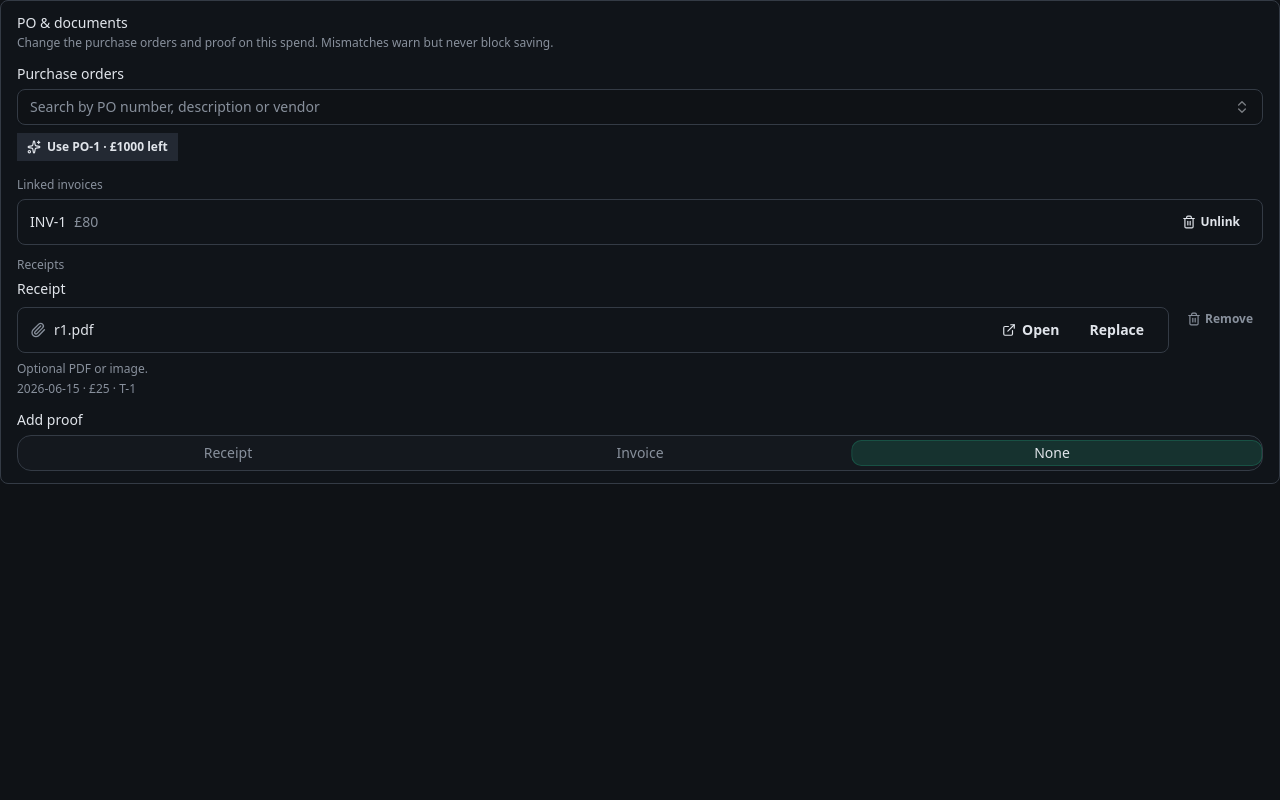
ExpenseDocumentMatch (edit mode) › labels the proof control as adding proof and keeps already-linked invoices out of the picker
Expected: the text "Add proof" is shown, [17, 410, 83, 429]
Click the tab "Invoice": (640,453) [434, 440, 846, 466]
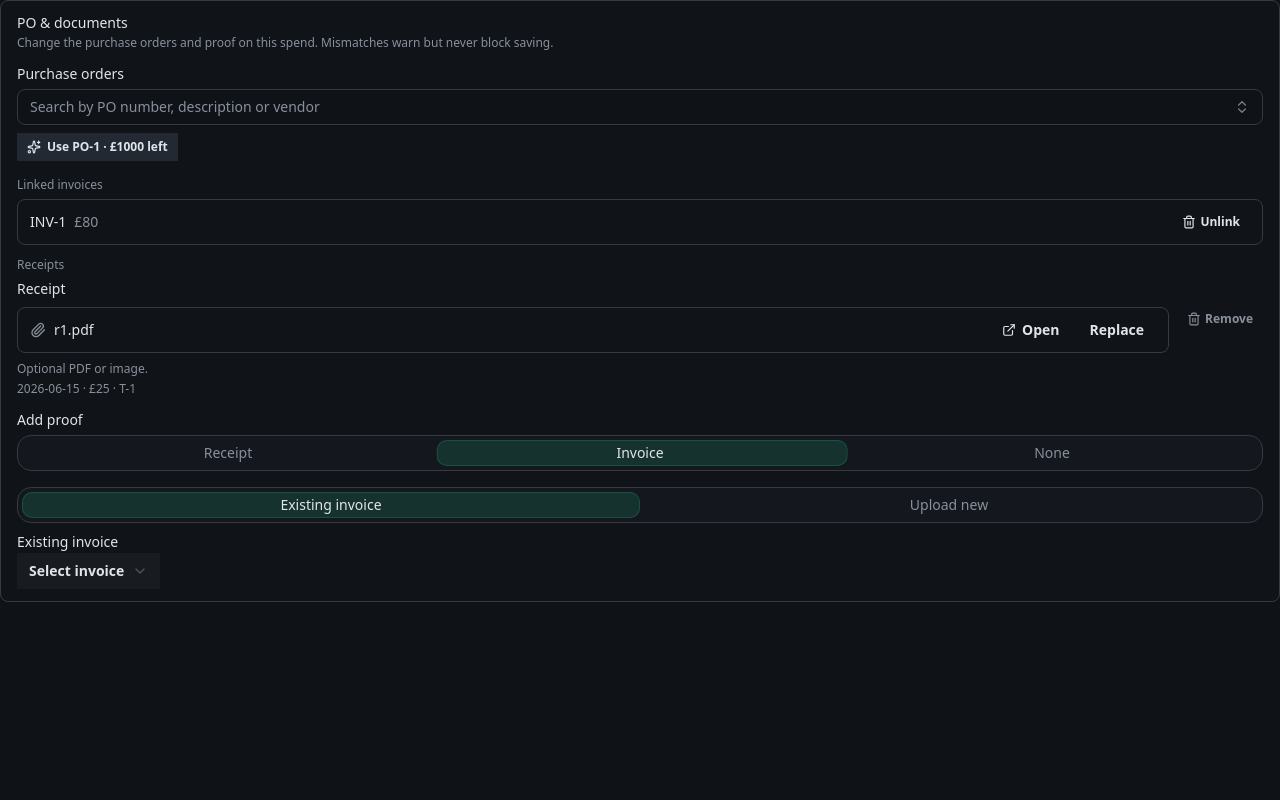
Now the tab "Existing invoice" is enabled, box [22, 492, 640, 518]
Click the dropdown named "Existing invoice": (89,571) [17, 553, 160, 589]
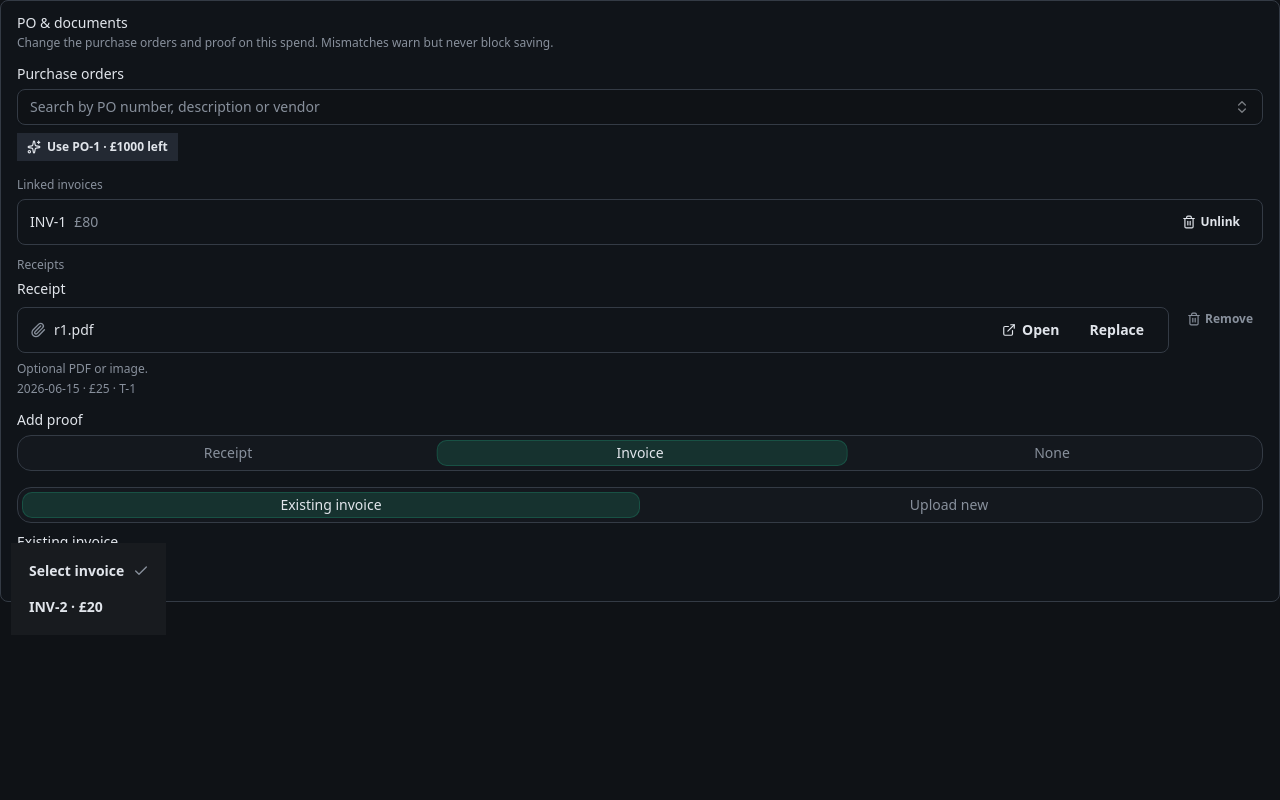
Now the option "INV-2 · £20" is shown, box [29, 597, 103, 616]
